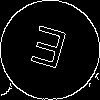E: (25, 25, 70, 78)
